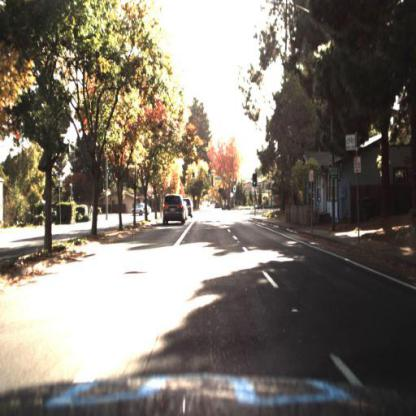car: (163, 194, 187, 225), (130, 202, 153, 218), (128, 202, 152, 215), (186, 197, 196, 222), (186, 198, 194, 222)
trafficLight: (252, 176, 259, 189)
trafficLight-Green: (252, 175, 259, 190), (208, 170, 213, 186), (192, 171, 197, 185), (209, 168, 212, 181)
trafficLight-GreenLeft: (193, 172, 196, 184)
